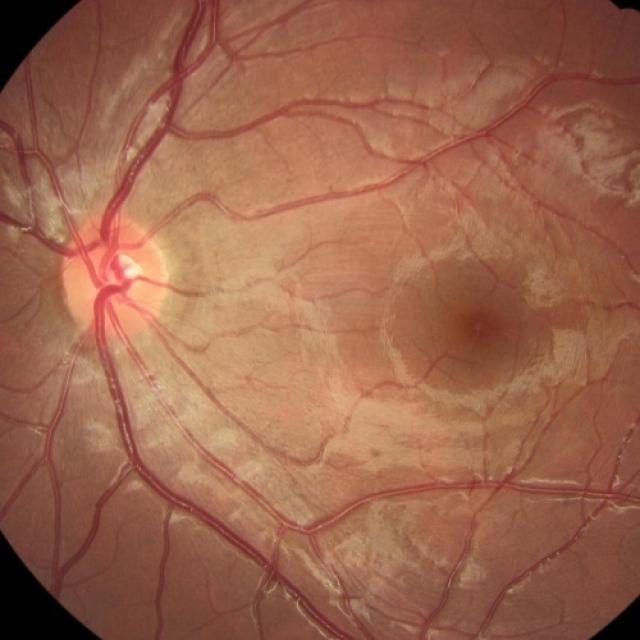OC: (104, 253, 140, 288)
OD: (61, 221, 170, 335)
